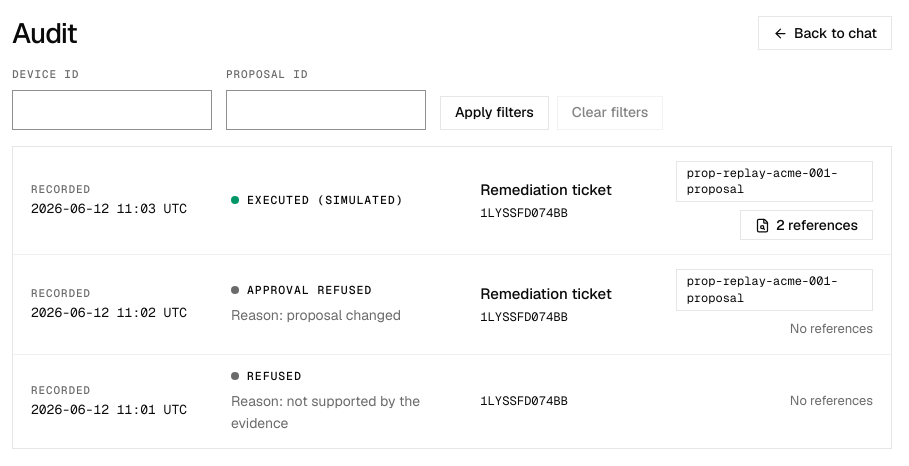
Scenario: the tenant audit view › filters by proposal when its id is chosen, and clears the filters
Click the button "prop-replay-acme-001-proposal" in the row of "Executed (simulated)": point(774, 181) 676,161 -> 873,202
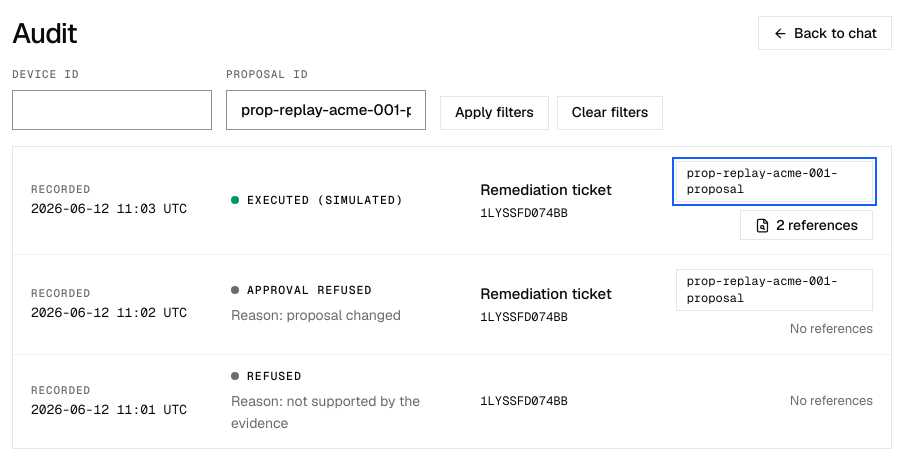
Now the field labelled "Proposal id" holds "prop-replay-acme-001-proposal", box 226,90 -> 426,130
Click the button "Clear filters": point(610, 113) 557,96 -> 663,130
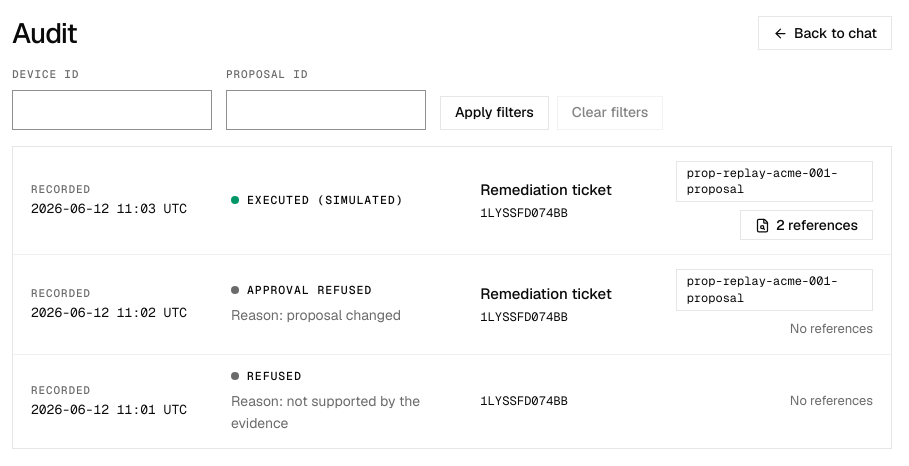
Now the field labelled "Proposal id" is empty, box 226,90 -> 426,130
